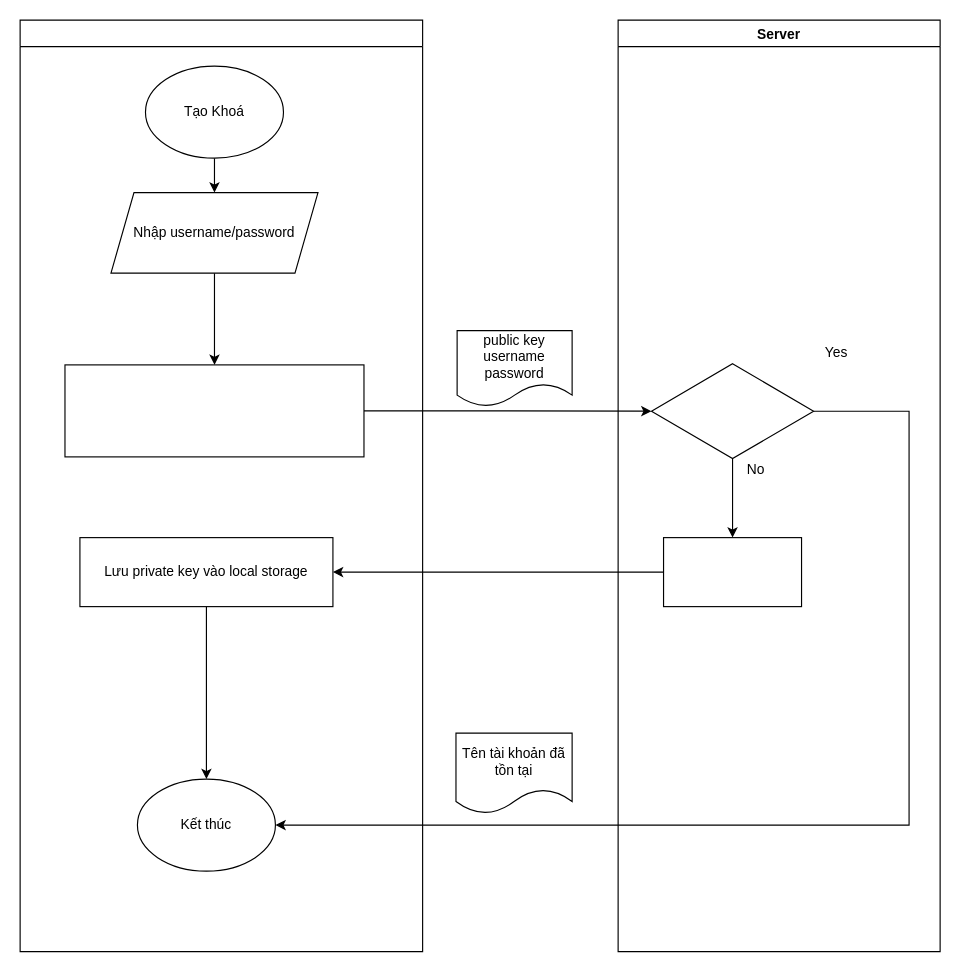
This 960x972 diagram has some shape labels left out. Each missing label, with the box of its shape:
Client: (19, 19, 423, 952)
Lưu vào database: (662, 536, 802, 607)
Sinh khoá RSA (private key và public key): (64, 364, 364, 457)
username đã tồn tại?: (650, 363, 814, 459)
